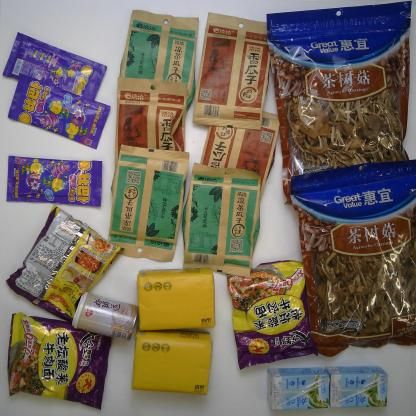Candy: (7, 71, 116, 151), (2, 29, 110, 109), (5, 151, 103, 206)
Canned Food: (69, 288, 145, 346)
Dried Food: (266, 0, 414, 207), (288, 156, 415, 356), (186, 100, 288, 221), (105, 142, 191, 266), (189, 13, 276, 134), (115, 7, 202, 124), (180, 161, 264, 279), (112, 75, 196, 186)
Instant Noodles: (4, 203, 126, 323), (220, 256, 322, 372), (6, 309, 116, 411)
Milk: (262, 364, 332, 414), (326, 364, 391, 412)
Tissue: (131, 324, 216, 400), (131, 263, 219, 336)
